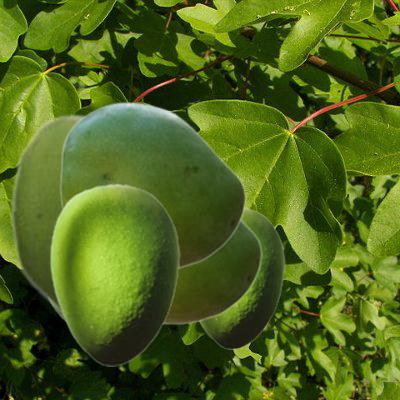green_mango: (59, 101, 245, 270), (49, 183, 179, 365), (10, 113, 84, 326), (197, 206, 284, 348), (164, 220, 261, 324)
